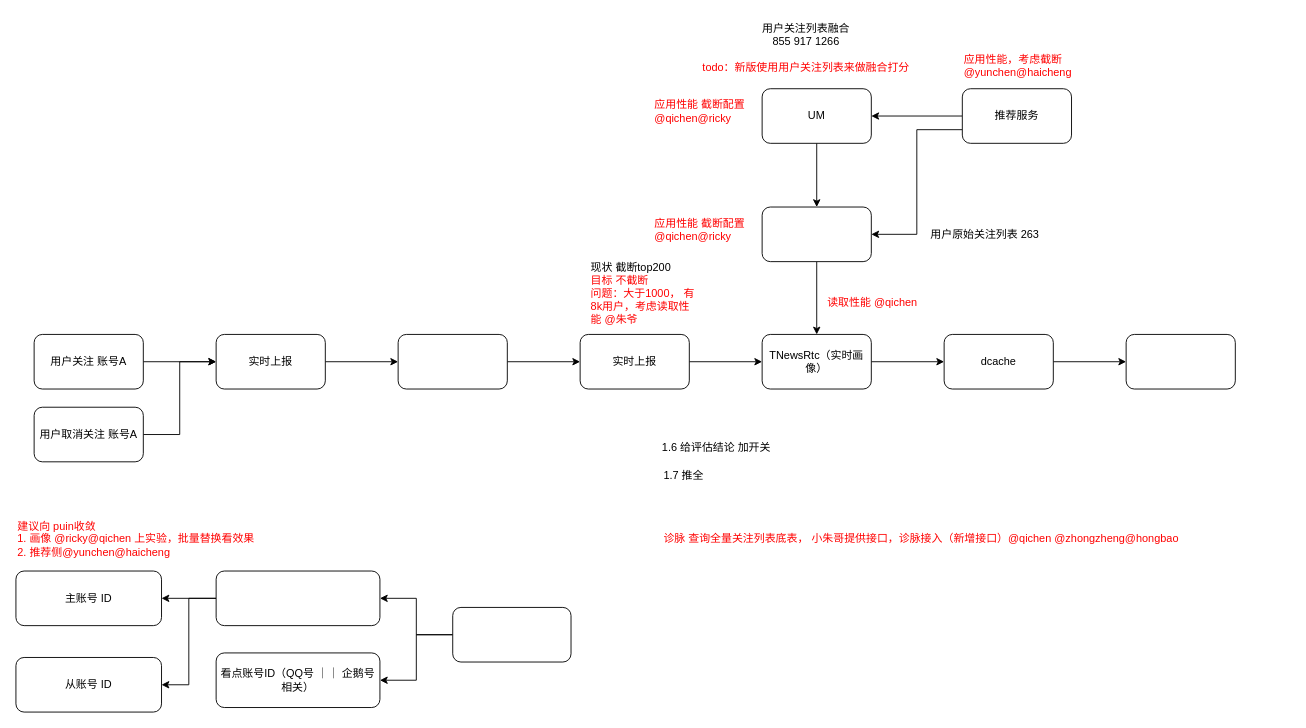
The diagram is 1306 pixels wide and 728 high, and some of its shapes have lost their labels. Here are the shapes that lost their labels. From the top down, the box of each, then its label:
(761, 206, 871, 262): FQ
(397, 334, 507, 389): 拉取用户全量关注列表
(1125, 334, 1235, 389): bdb
(215, 570, 380, 626): 企鹅号账号ID
(452, 607, 571, 662): puin 三端融合账号ID
